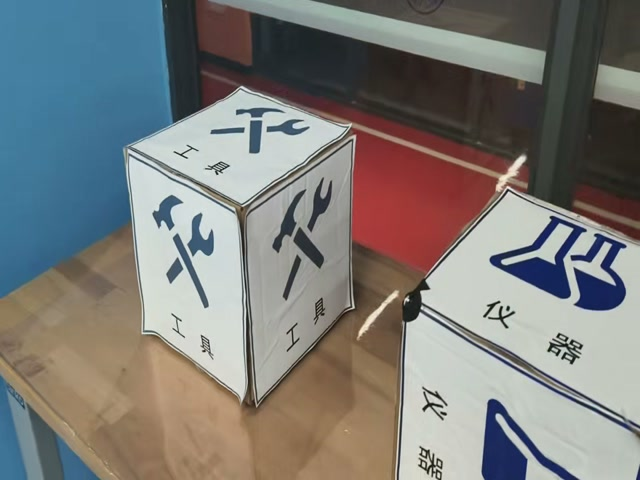Cube_ins: (405, 178, 640, 452)
Cube_tool: (128, 87, 358, 212)
